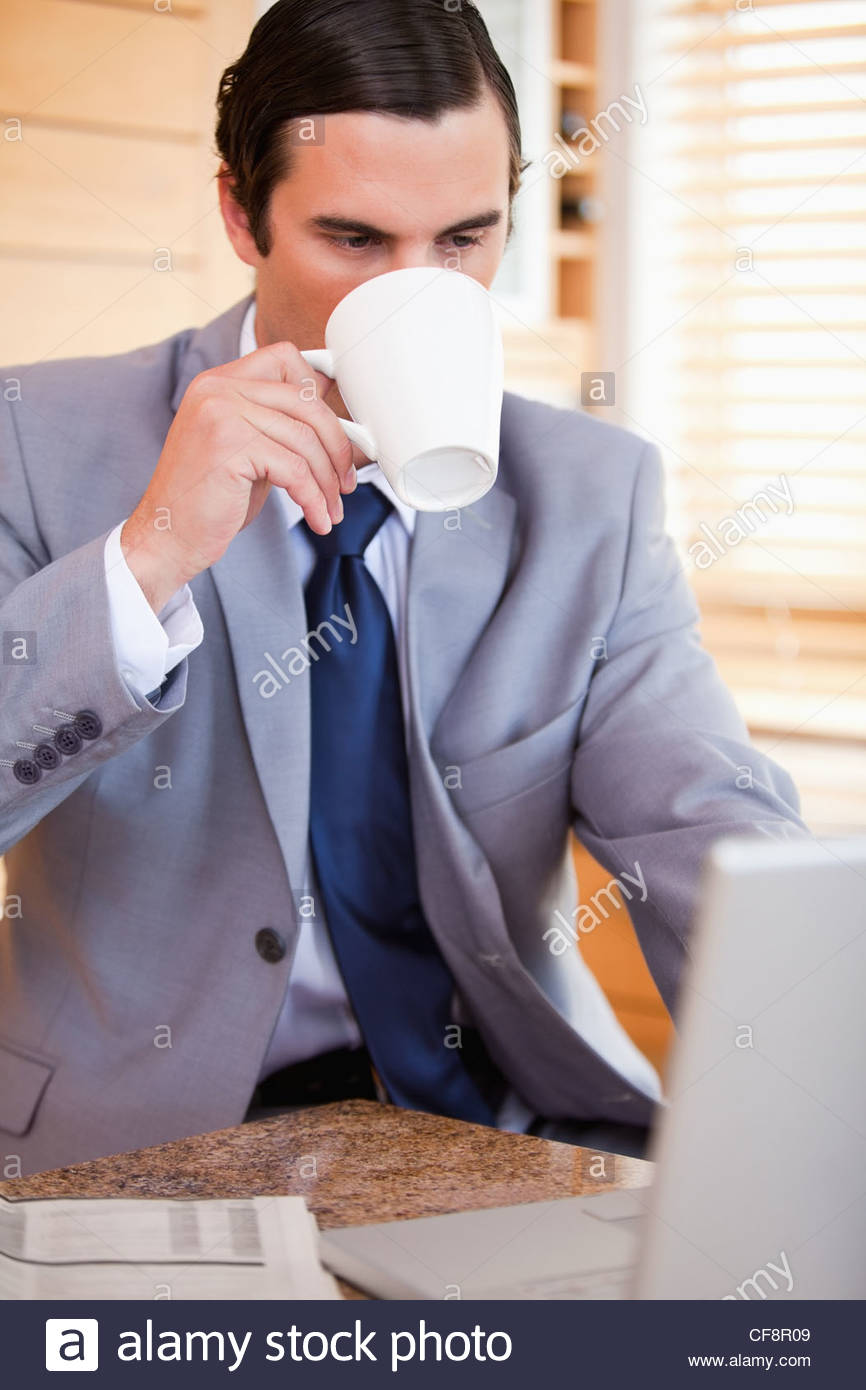drinking: (74, 5, 772, 815)
